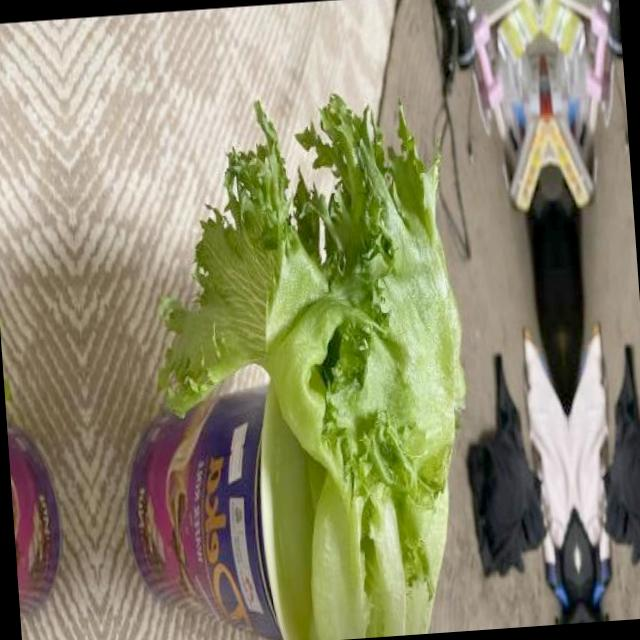healthy: (134, 78, 485, 640), (0, 109, 34, 640)
